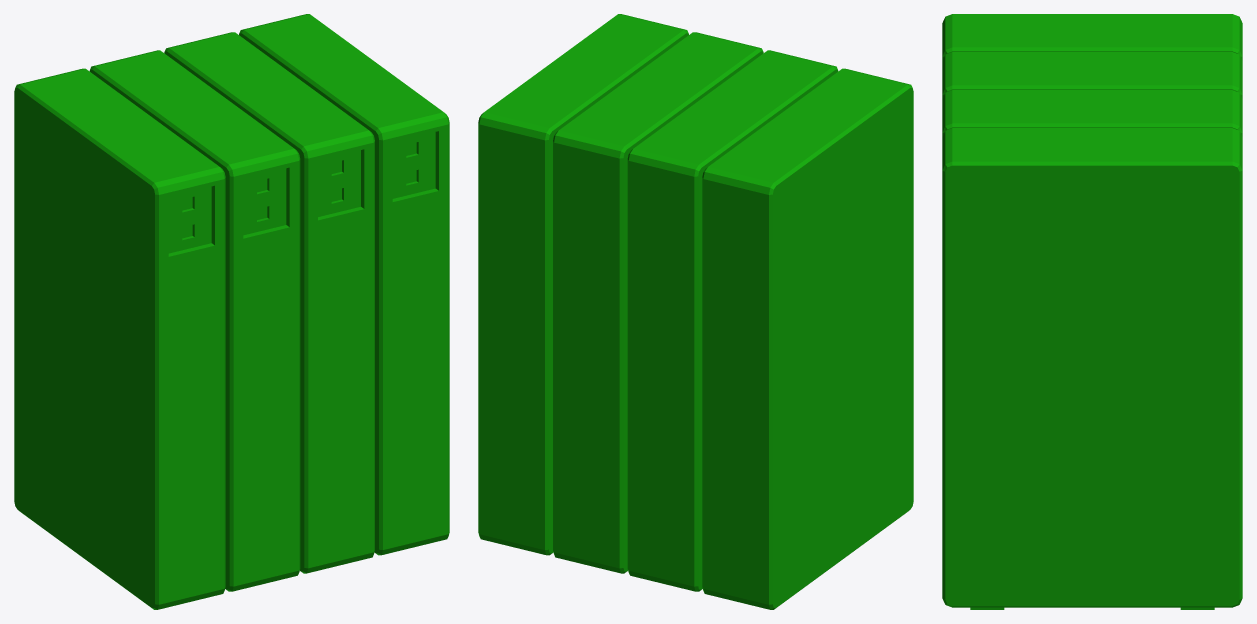
Rendered from EP5-battery-stack.obj.
3 renders of one model, left to right at view 1: azimuth 30°, elevation 25°; view 2: azimuth 150°, elevation 25°; view 3: azimuth 270°, elevation 25°, orthographic. The views are drawn at different scales.
Visible parts, largest first — view 1: EP5_Side-by-Side_-_Module_01, EP5_Side-by-Side_-_Module_02, EP5_Side-by-Side_-_Module_03, EP5_Side-by-Side_-_Module_04; view 2: EP5_Side-by-Side_-_Module_01, EP5_Side-by-Side_-_Module_02, EP5_Side-by-Side_-_Module_03, EP5_Side-by-Side_-_Module_04; view 3: EP5_Side-by-Side_-_Module_04, EP5_Side-by-Side_-_Module_02, EP5_Side-by-Side_-_Module_03, EP5_Side-by-Side_-_Module_01.
Part boxes in pixels (<box>): EP5_Side-by-Side_-_Module_01: <box>14,68,225,609</box>; EP5_Side-by-Side_-_Module_02: <box>89,50,300,591</box>; EP5_Side-by-Side_-_Module_03: <box>164,32,374,573</box>; EP5_Side-by-Side_-_Module_04: <box>239,14,449,555</box>; EP5_Side-by-Side_-_Module_01: <box>702,68,913,609</box>; EP5_Side-by-Side_-_Module_02: <box>627,50,838,591</box>; EP5_Side-by-Side_-_Module_03: <box>553,32,763,573</box>; EP5_Side-by-Side_-_Module_04: <box>478,14,688,555</box>; EP5_Side-by-Side_-_Module_04: <box>942,128,1242,609</box>; EP5_Side-by-Side_-_Module_02: <box>942,52,1242,98</box>; EP5_Side-by-Side_-_Module_03: <box>942,90,1242,136</box>; EP5_Side-by-Side_-_Module_01: <box>942,14,1242,60</box>.
Bounding box in the file's own units: 0.355 × 0.5 × 0.3.
